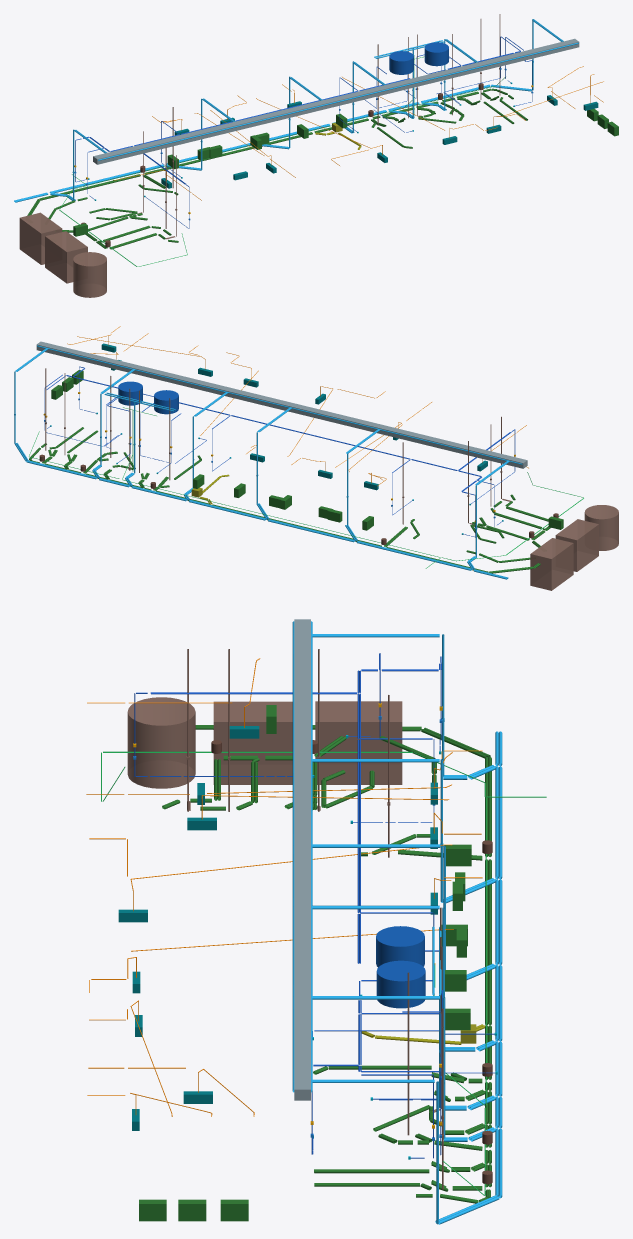
File: hidrossanitario-r1.glb
The picture shows the model from 3 angles, top to bottom: view 1: azimuth 30°, elevation 25°; view 2: azimuth 150°, elevation 25°; view 3: azimuth 270°, elevation 25°; orthographic projection. The views are drawn at different scales.
Visible parts, largest first — view 1: Calha metálica 350 × 500, Tubos · Pluvial, Tubos · Esgoto, Tubos · Água fria, Sumidouro, Filtro anaeróbio, Tanque séptico, Caixa d'água 1000 L (×2), Tubos · Ventilação, Tubos · Climatização, Tubos · Alimentação; view 2: Tubos · Pluvial, Calha metálica 350 × 500, Tubos · Esgoto, Tanque séptico, Tubos · Água fria, Filtro anaeróbio, Tubos · Ventilação, Sumidouro, Caixa d'água 1000 L (×2), Tubos · Alimentação, Tubos · Climatização; view 3: Tubos · Pluvial, Tubos · Esgoto, Calha metálica 350 × 500, Tanque séptico, Sumidouro, Tubos · Água fria, Filtro anaeróbio, Caixa d'água 1000 L (×2), Tubos · Climatização, Tubos · Ventilação, Tubos · Alimentação.
Part boxes in pixels (left/top/right/bottom): Calha metálica 350 × 500: left=93, top=38, right=579, bottom=164; Tubos · Pluvial: left=14, top=19, right=578, bottom=202; Tubos · Esgoto: left=27, top=88, right=527, bottom=249; Tubos · Água fria: left=75, top=36, right=532, bottom=228; Sumidouro: left=73, top=252, right=106, bottom=297; Filtro anaeróbio: left=45, top=231, right=87, bottom=283; Tanque séptico: left=19, top=212, right=62, bottom=264; Caixa d'água 1000 L (×2): left=389, top=42, right=448, bottom=74; Tubos · Ventilação: left=138, top=14, right=500, bottom=239; Tubos · Climatização: left=113, top=66, right=603, bottom=200; Tubos · Alimentação: left=59, top=55, right=505, bottom=266; Tubos · Pluvial: left=14, top=345, right=522, bottom=579; Calha metálica 350 × 500: left=36, top=341, right=527, bottom=468; Tubos · Esgoto: left=29, top=427, right=550, bottom=573; Tanque séptico: left=530, top=538, right=573, bottom=590; Tubos · Água fria: left=44, top=366, right=515, bottom=537; Filtro anaeróbio: left=555, top=519, right=598, bottom=571; Tubos · Ventilação: left=45, top=368, right=510, bottom=524; Sumidouro: left=584, top=505, right=618, bottom=550; Caixa d'água 1000 L (×2): left=118, top=381, right=178, bottom=414; Tubos · Alimentação: left=29, top=407, right=583, bottom=568; Tubos · Climatização: left=67, top=326, right=528, bottom=486; Tubos · Pluvial: left=292, top=621, right=502, bottom=1224; Tubos · Esgoto: left=162, top=725, right=491, bottom=1203; Calha metálica 350 × 500: left=294, top=619, right=310, bottom=1100; Tanque séptico: left=315, top=701, right=402, bottom=784; Sumidouro: left=127, top=697, right=195, bottom=788; Tubos · Água fria: left=134, top=653, right=494, bottom=1158; Filtro anaeróbio: left=213, top=701, right=292, bottom=784; Caixa d'água 1000 L (×2): left=376, top=926, right=425, bottom=1008; Tubos · Climatização: left=86, top=658, right=482, bottom=1116; Tubos · Ventilação: left=187, top=649, right=443, bottom=1189; Tubos · Alimentação: left=101, top=751, right=546, bottom=1195.
Bounding box in the file's own units: 35.74 × 6.85 × 13.25.
